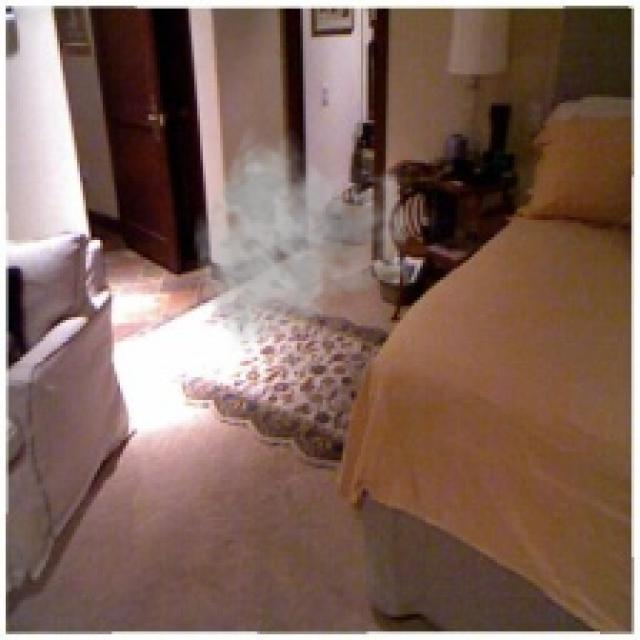smoke: (191, 123, 426, 351)
